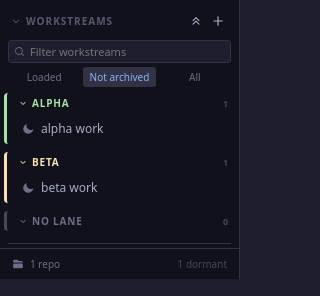
Test case: workstream list search and lanes › brings the empty lanes back when the search is cleared
The image size is (320, 296).
In the field with test id "ws-search-input": (120,52) [8,40,231,63], type "alpha"
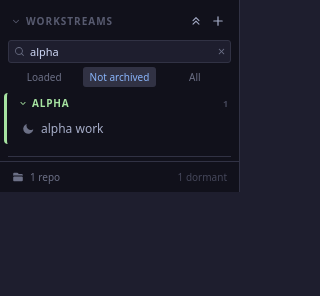
Clear the field with test id "ws-search-input": (120,52) [8,40,231,63]
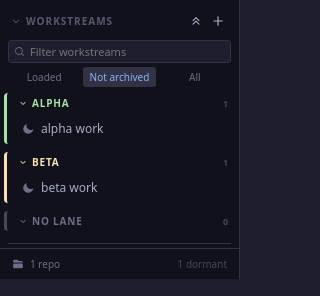
expect the element with test id "ws-lane-l2" is shown: met, box [4,152,235,203]
